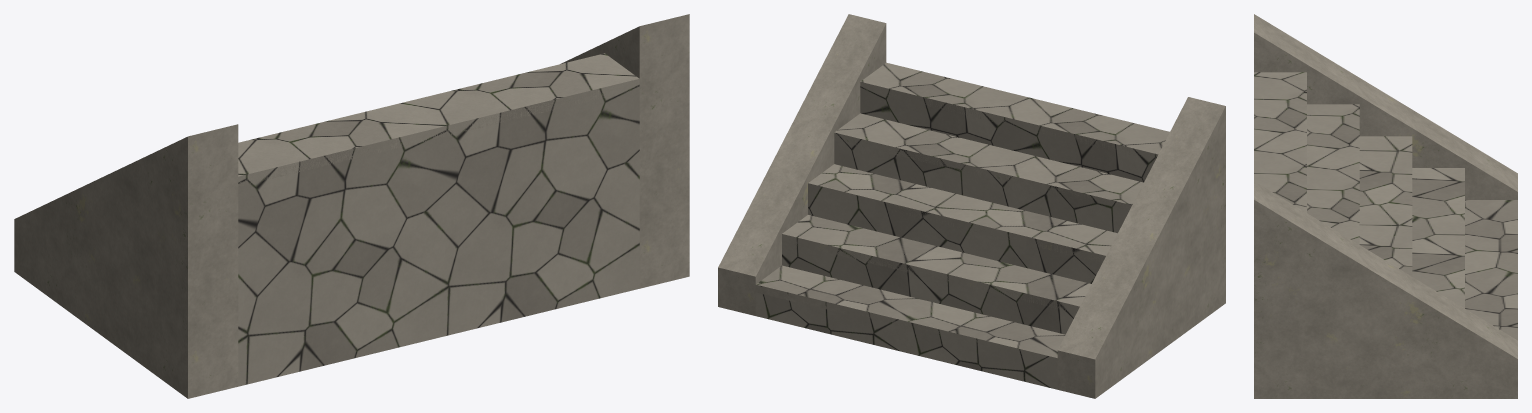
Rendered from HO_Prop_StoneStairs_Straight.fbx.
The picture shows the model from 3 angles, left to right: view 1: azimuth 30°, elevation 25°; view 2: azimuth 150°, elevation 25°; view 3: azimuth 270°, elevation 25°; orthographic projection. The views are drawn at different scales.
Visible parts, largest first — view 1: HO_Prop_StoneStairs_Straight__Stone_Fitted, HO_Prop_StoneStairs_Straight__Stone_Granite; view 2: HO_Prop_StoneStairs_Straight__Stone_Fitted, HO_Prop_StoneStairs_Straight__Stone_Granite; view 3: HO_Prop_StoneStairs_Straight__Stone_Granite, HO_Prop_StoneStairs_Straight__Stone_Fitted.
Boxes of the visible parts, x1,y1,x2,y2 form: HO_Prop_StoneStairs_Straight__Stone_Fitted: (238,53,639,386); HO_Prop_StoneStairs_Straight__Stone_Granite: (14,14,689,398); HO_Prop_StoneStairs_Straight__Stone_Fitted: (755,62,1169,389); HO_Prop_StoneStairs_Straight__Stone_Granite: (718,14,1225,398); HO_Prop_StoneStairs_Straight__Stone_Granite: (1254,14,1517,398); HO_Prop_StoneStairs_Straight__Stone_Fitted: (1254,72,1517,340).
Bounding box in the file's own units: 10 × 5 × 6.
